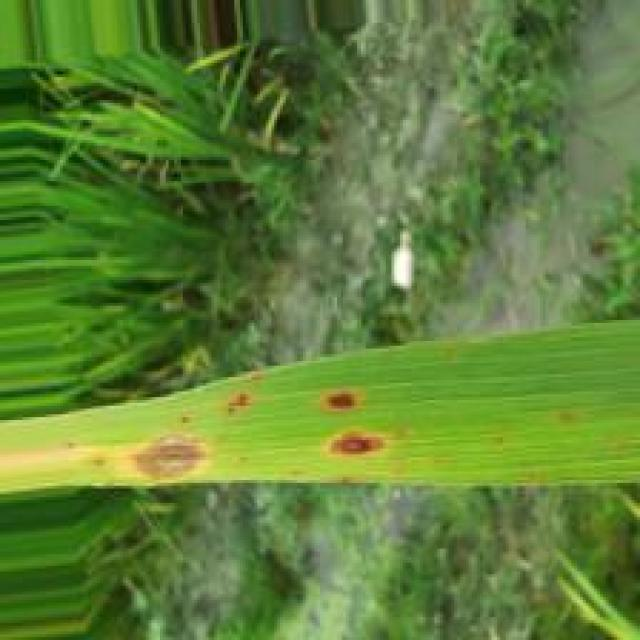Brown_Spot: (133, 437, 204, 480), (317, 426, 389, 460), (323, 393, 362, 409)
